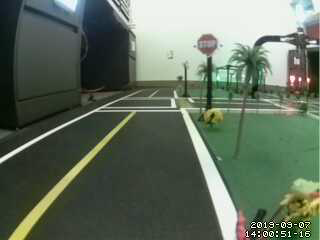Stop_Sign: (197, 30, 223, 58)
